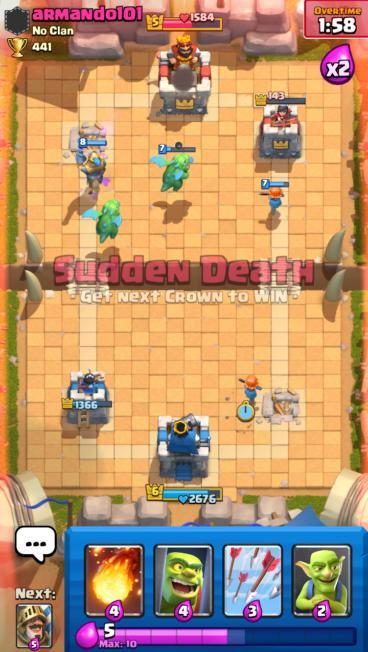ally_baby_dragon: (145, 144, 198, 196), (80, 194, 130, 246)
ally_prince: (73, 134, 113, 201)
ally_valkyrie: (258, 177, 289, 216), (236, 376, 264, 404)
